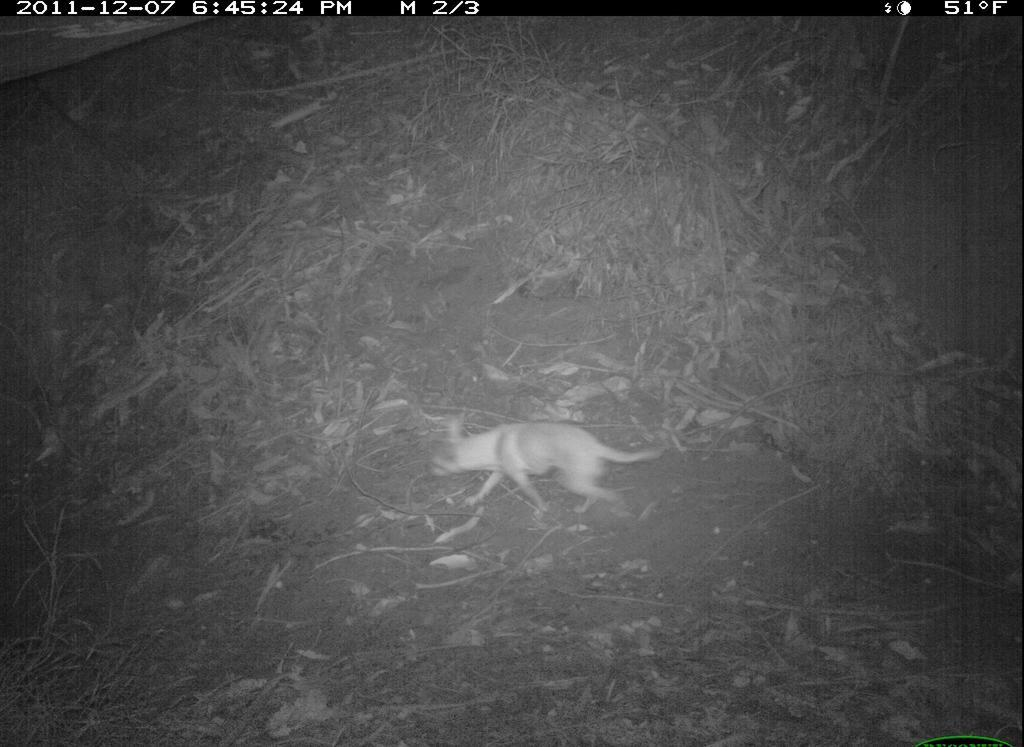dog: (426, 409, 667, 538)
